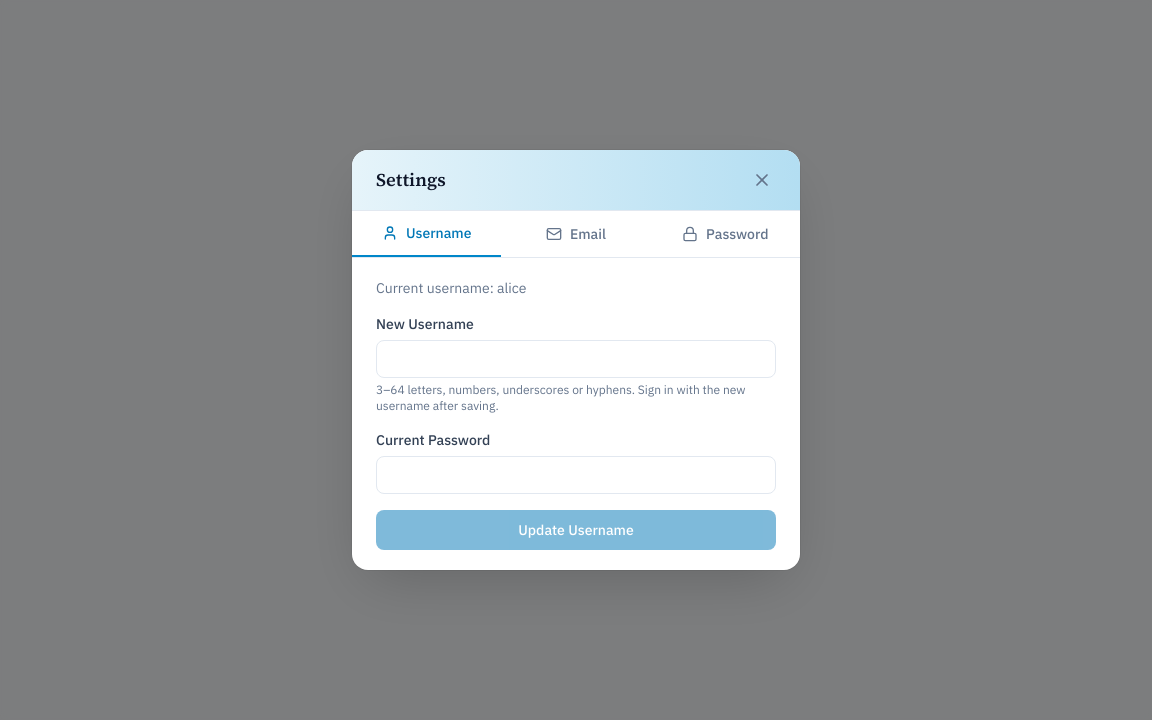
Test case: username settings › renames a active account and updates its displayed identity and token
Type "alice-renamed" into the field labelled "New Username" at (576, 359), box [376, 340, 776, 378]
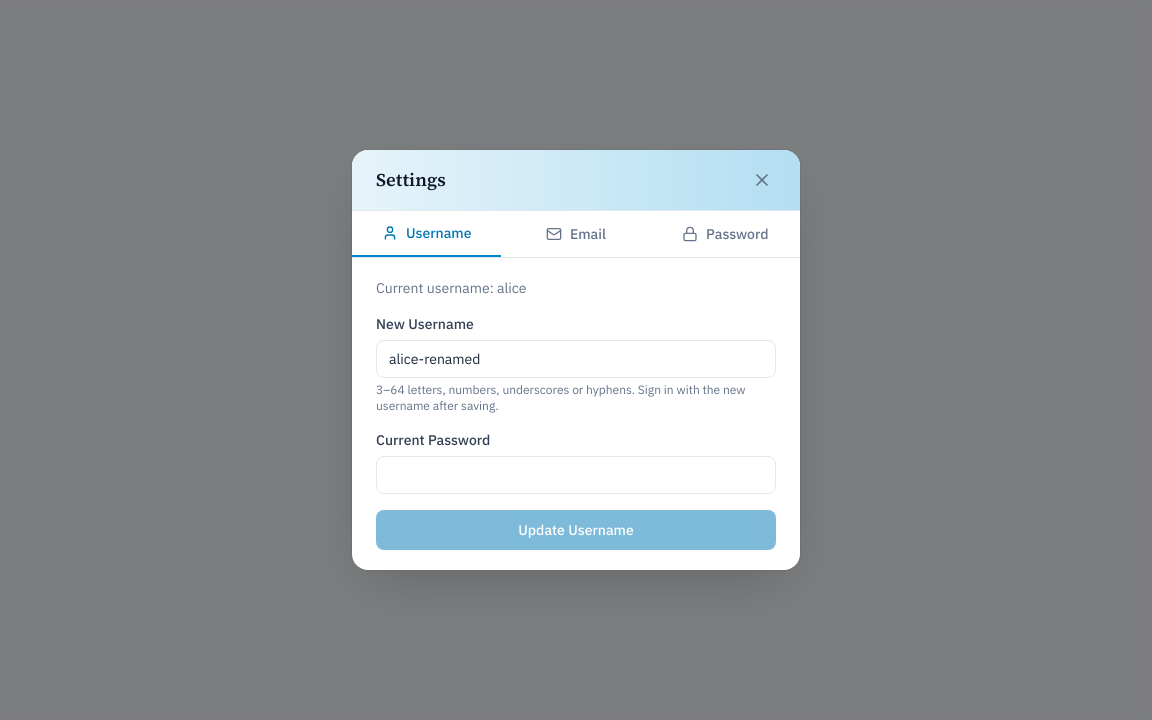
Type "password123" into the password field labelled "Current Password" at (576, 475), box [376, 456, 776, 494]
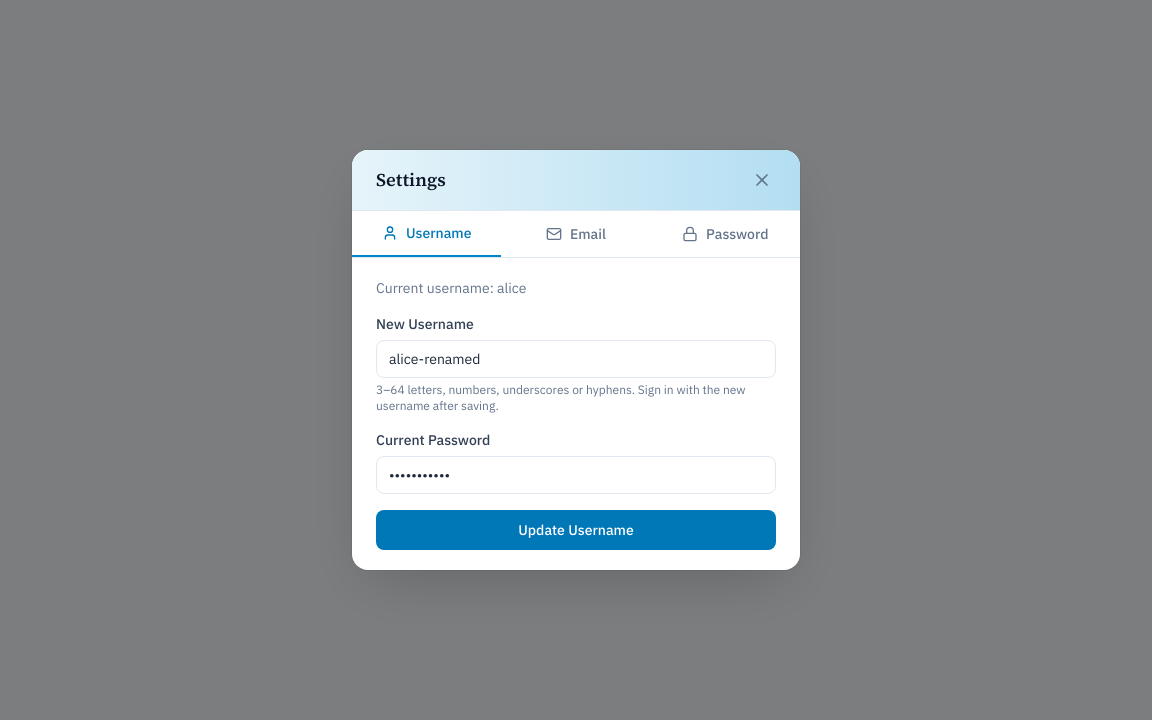
Click the button "Update Username" at (576, 530), box [376, 510, 776, 550]
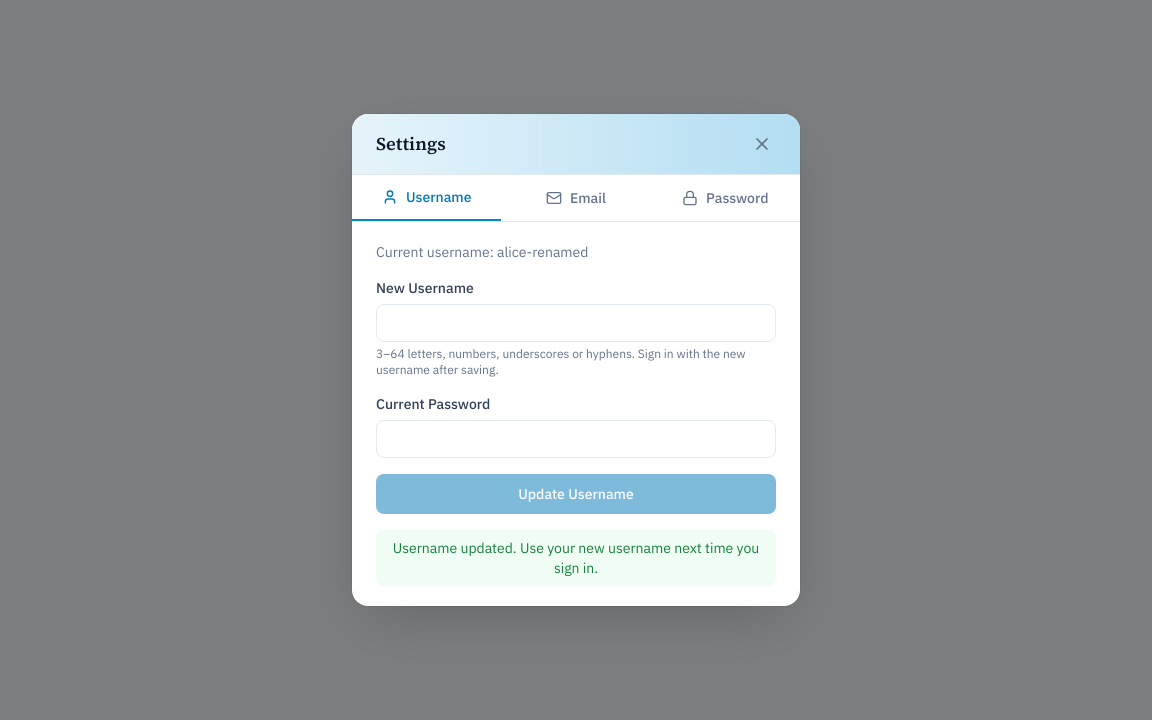
Expected: the text "Username updated. Use your new username next time you sign in." is shown, [376, 530, 776, 586]
Expected: the password field labelled "Current Password" is empty, [376, 420, 776, 458]
